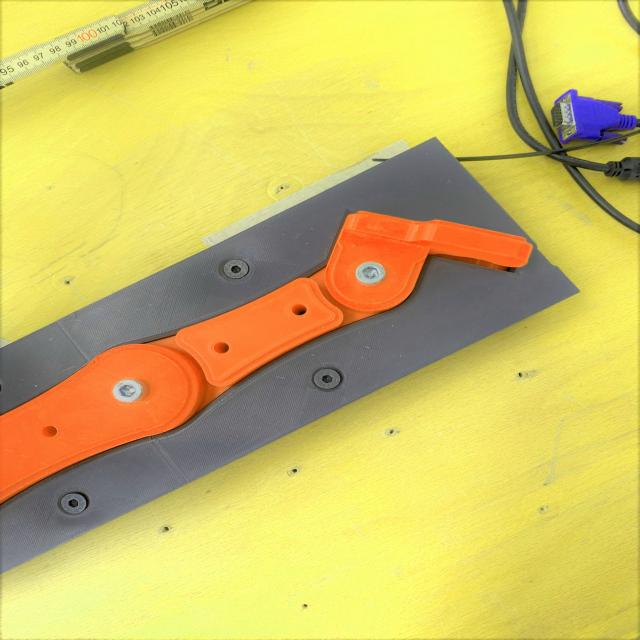HexScrew: (112, 378, 144, 404), (356, 262, 387, 286), (314, 368, 344, 390), (60, 494, 88, 514), (225, 259, 249, 279)
